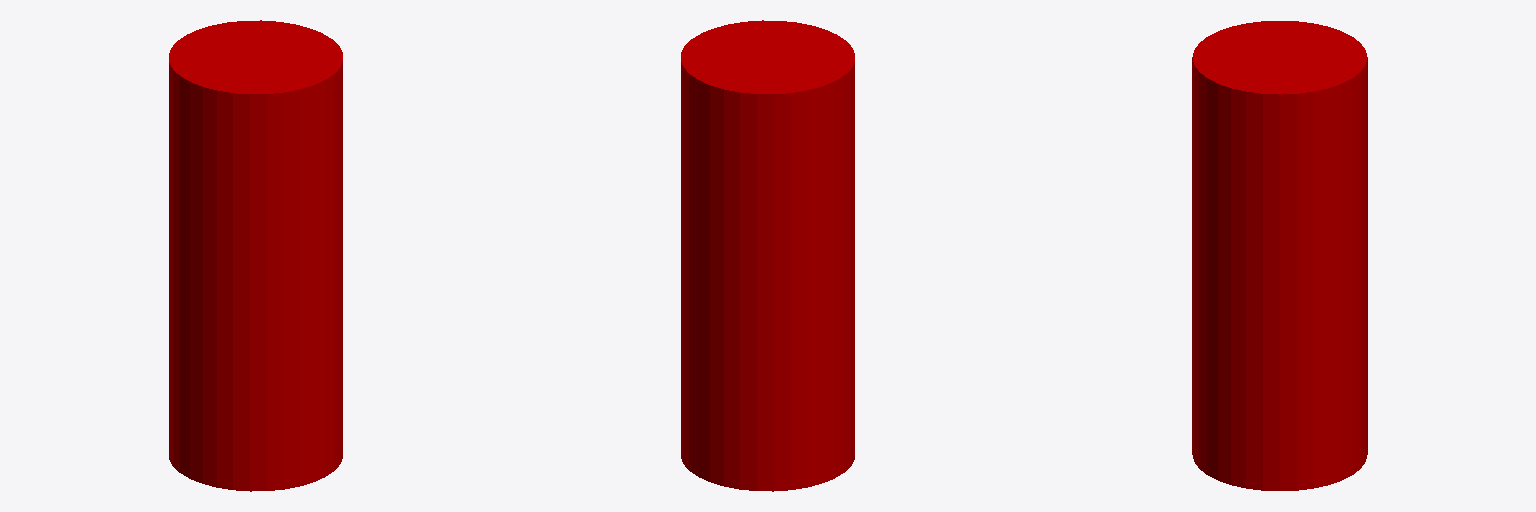
URDF robot description (cup):
<?xml version="1.0"?>
<robot name="cup">
  <link name="l0">
    <inertial>
      <mass value="0.5" />
			<inertia ixx="0.1667" ixy="0.0" ixz="0.0" iyy="0.1667" iyz="0.0" izz="0.1667" />
    </inertial>
		<visual> 
			<geometry> <cylinder length="0.15" radius="0.03"/> </geometry> 
			<material name="blue"> <color rgba="0.8 0 0 1"/> </material>
		</visual>
		<collision> <geometry> <cylinder length="0.15" radius="0.03"/> </geometry> </collision>
  </link>
</robot>

--- Render facts (derived) ---
3 views of the same robot in one strip: view 1: azimuth 30°, elevation 25°; view 2: azimuth 150°, elevation 25°; view 3: azimuth 270°, elevation 25° (orthographic).
Robot: cup — 1 links, 0 joints (none); root link l0; default pose: every joint at zero.
Visible links, largest first — view 1: l0; view 2: l0; view 3: l0.
Link boxes in pixels (x1,y1,x2,y2): l0: (169, 20, 342, 491); l0: (681, 20, 854, 491); l0: (1192, 21, 1367, 490).
Bounding box of the posed robot: 0.06 × 0.06 × 0.15 m (x, y, z).
Geometry: primitives only (box / cylinder / sphere), no mesh files.